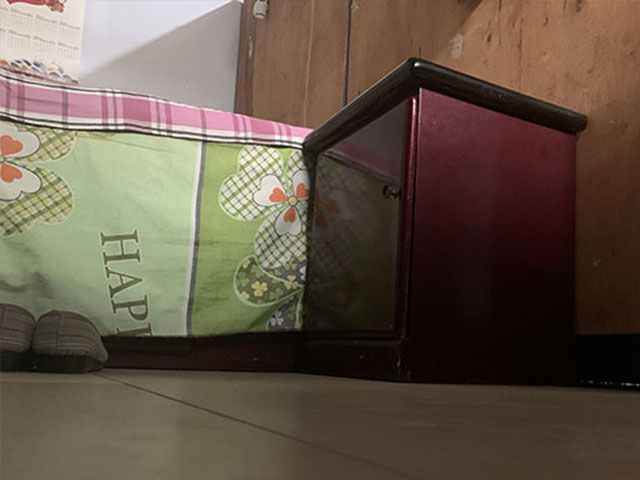bed: (1, 57, 314, 367)
cabinet: (298, 54, 590, 382)
slippers: (32, 307, 110, 373), (1, 302, 33, 372)
